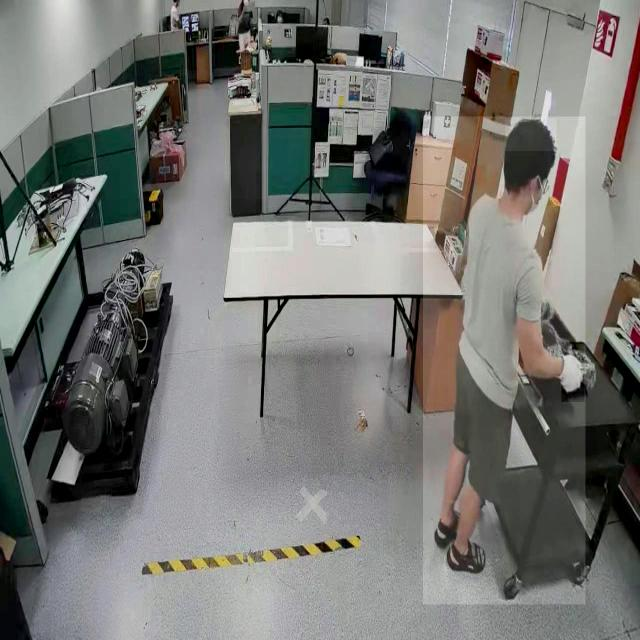hand_glove: (561, 342, 585, 403)
head_nohelmet: (504, 118, 556, 152)
person: (422, 117, 586, 606)
